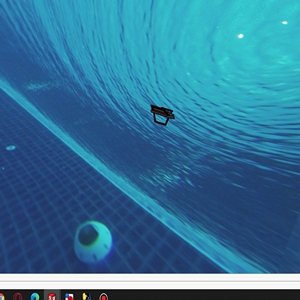submarine: (151, 106, 171, 128)
